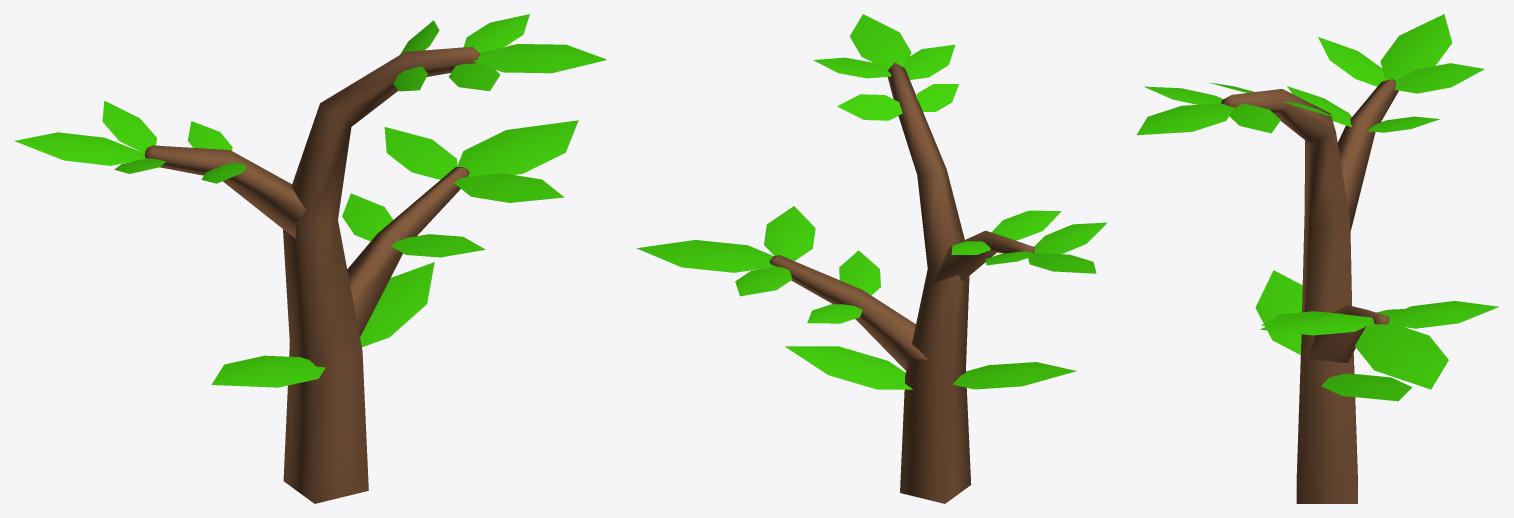
The model's file is PlantGrowth5.fbx.
3 renders of one model, left to right at view 1: azimuth 30°, elevation 25°; view 2: azimuth 150°, elevation 25°; view 3: azimuth 270°, elevation 25°, orthographic. The views are drawn at different scales.
Visible parts, largest first — view 1: PlantGrowth5; view 2: PlantGrowth5; view 3: PlantGrowth5.
Boxes of the visible parts, x1=… form: PlantGrowth5: x1=15, y1=14, x2=607, y2=503; PlantGrowth5: x1=637, y1=14, x2=1107, y2=503; PlantGrowth5: x1=1136, y1=14, x2=1499, y2=503.
Bounding box in the file's own units: 255 × 198 × 147.
